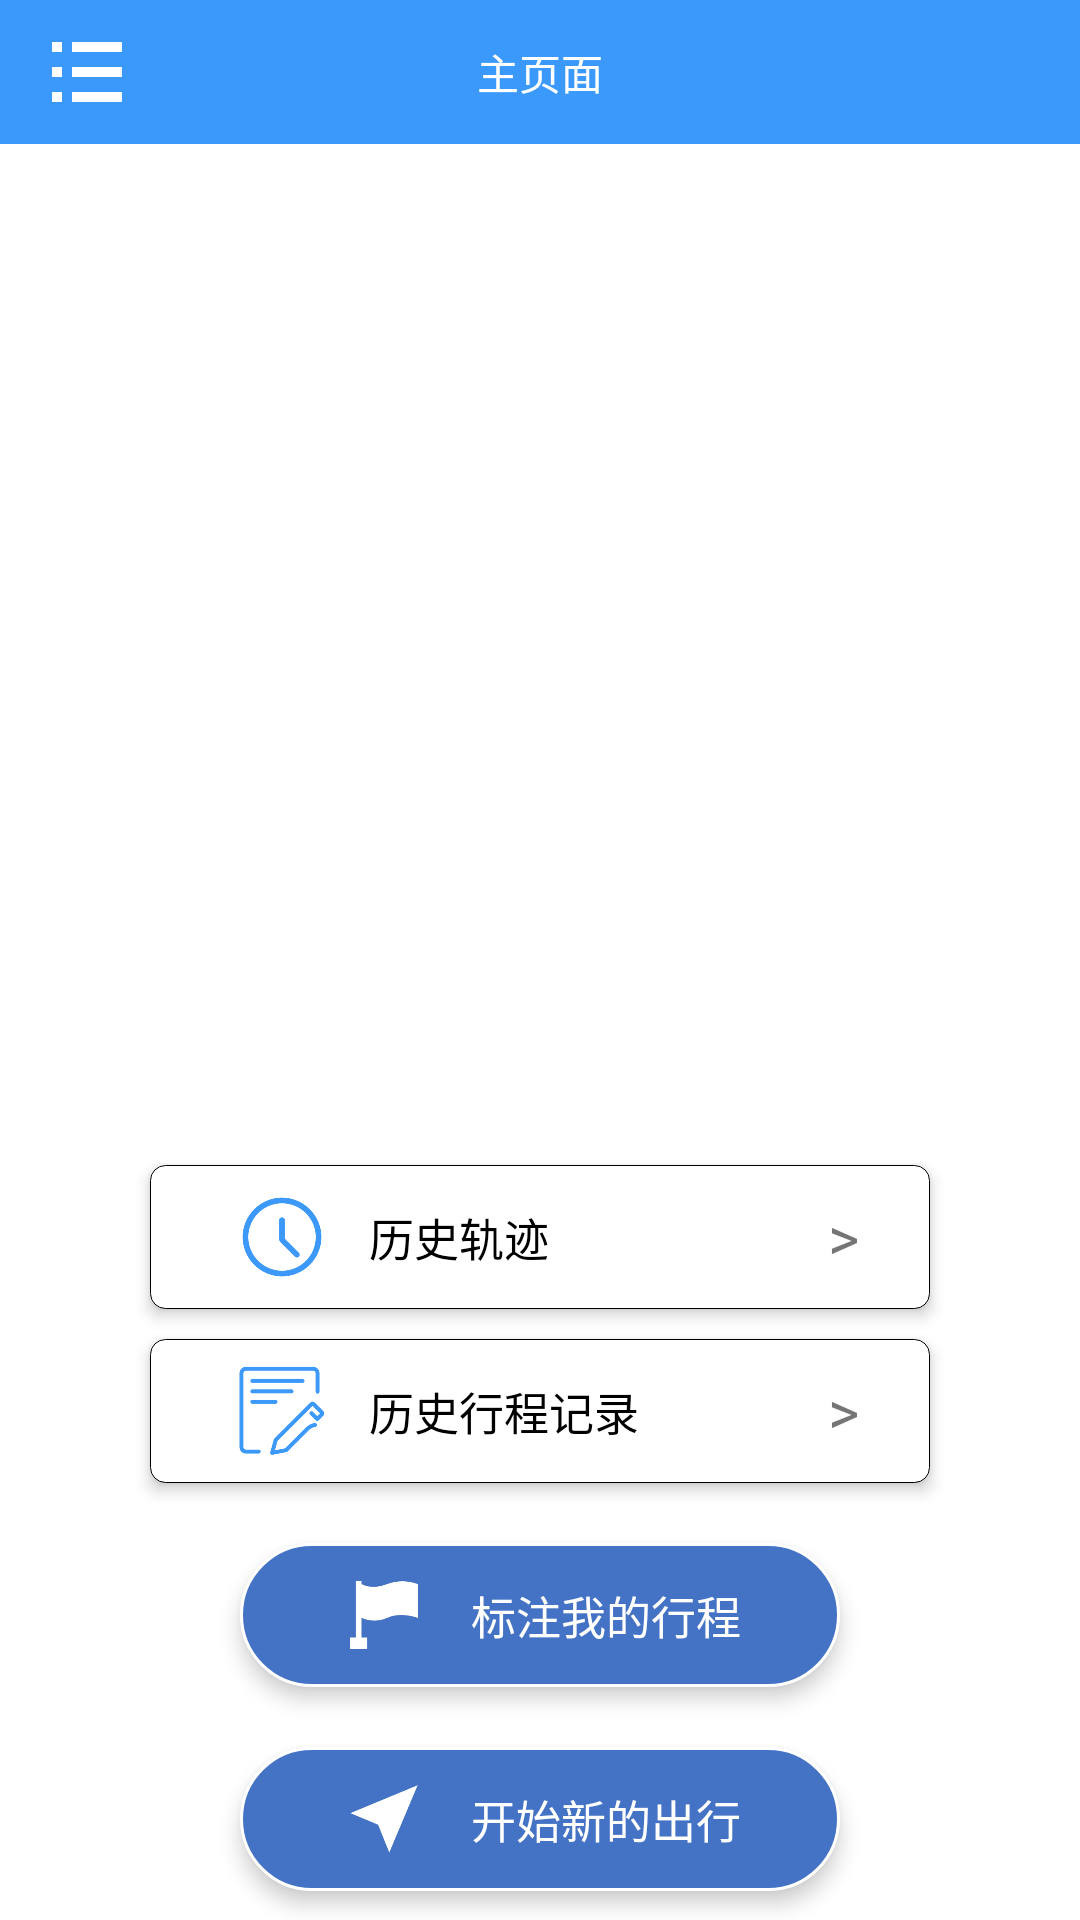

Icon bounding boxes for this 1080px x 1920px phone screenshot, format (x1,y1,x2,y2):
daohang: (351,1785,418,1852)
history: (242,1197,322,1277)
list: (52,42,122,102)
tagging: (350,1581,418,1649)
